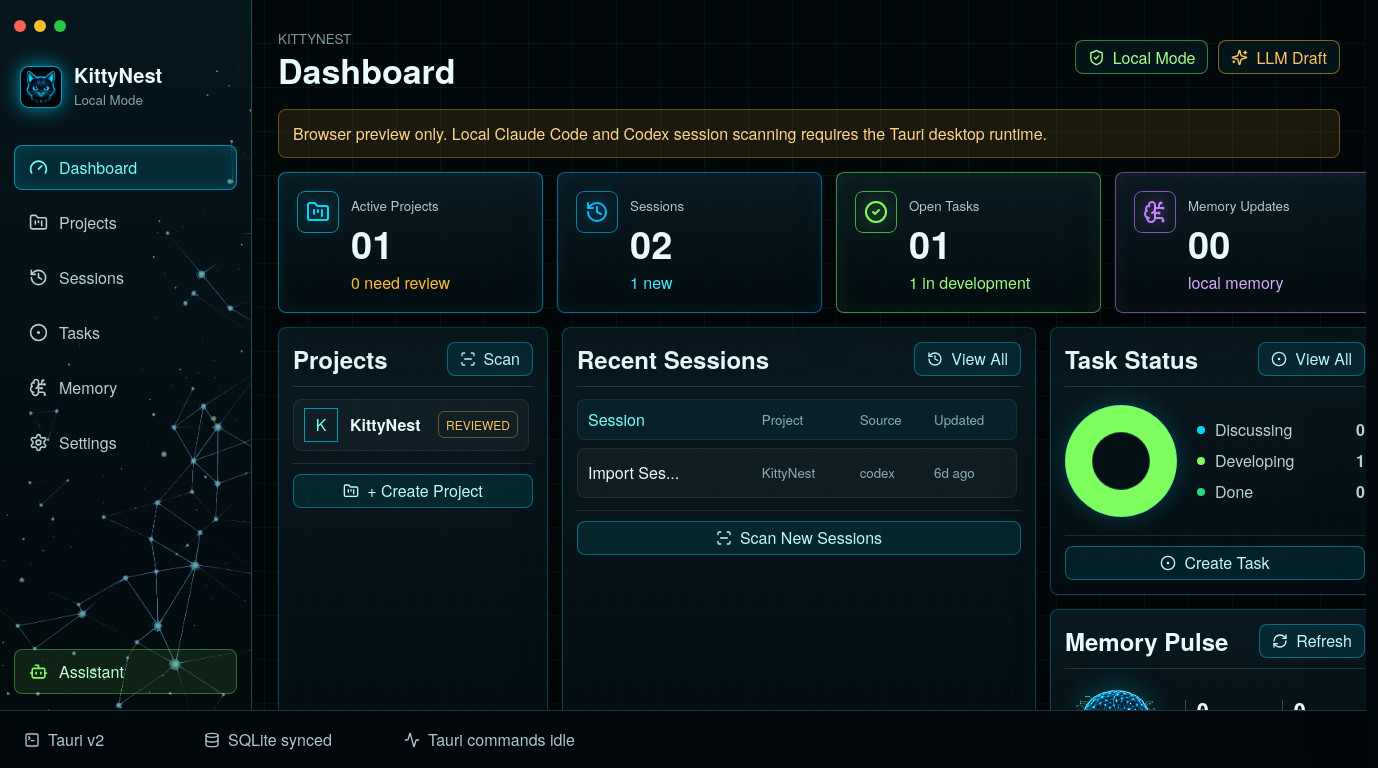
KittyNest dashboard › shows the tasks table without create task controls
Click the button "Tasks" at (126, 332), box [14,310,237,355]
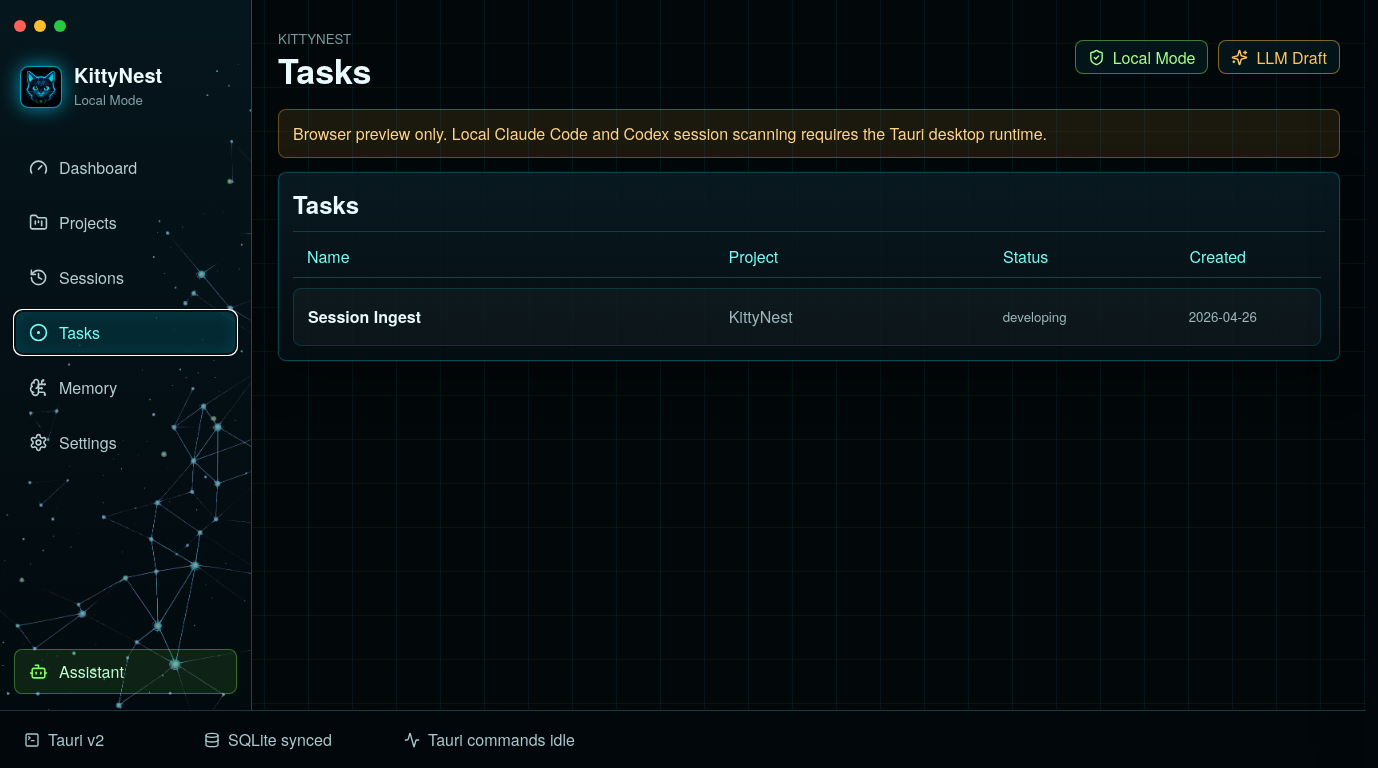
Expected: the heading "Tasks" in the row of "LLM Draft" is shown, [278,53,372,89]
Expected: the button "Session Ingest KittyNest developing 2026-04-26" is shown, [293,288,1321,346]
Expected: the button "Create Task" is gone
